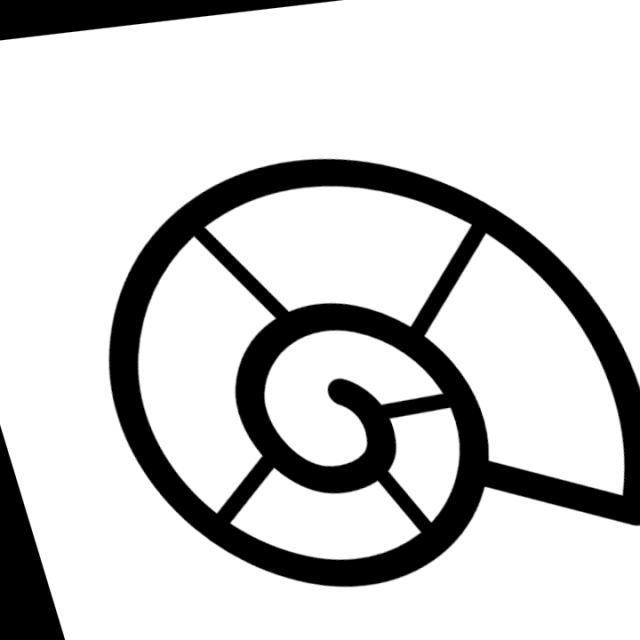fossil: (98, 154, 640, 599)
